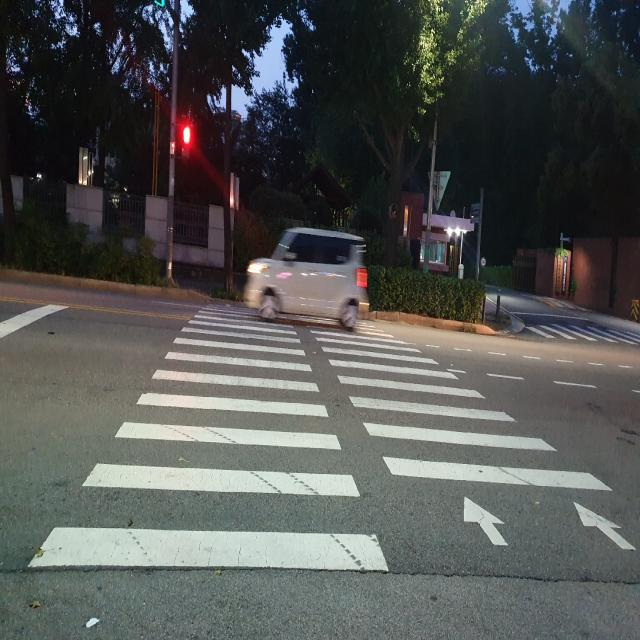빨간불: (182, 124, 194, 160)
횡단보도: (28, 303, 636, 572)
